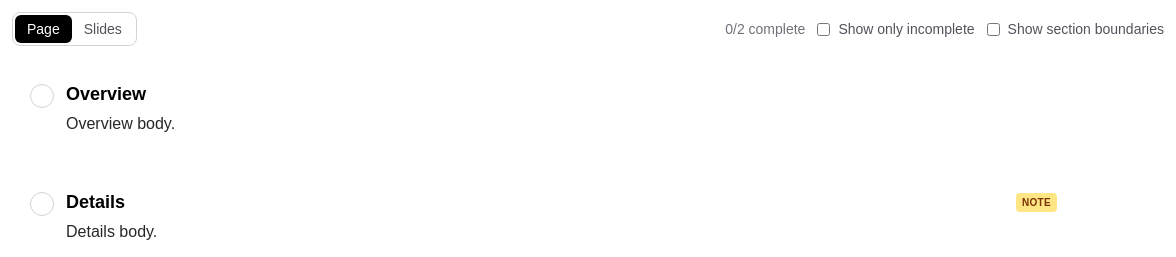
ContentBlocks › completion tracking › starts with nothing complete and updates the count on toggle
Expected: the text "0/2 complete" is shown, [725, 19, 805, 39]
Click the 1st button named "Mark as done".
click(42, 96)  # box [30, 84, 54, 108]
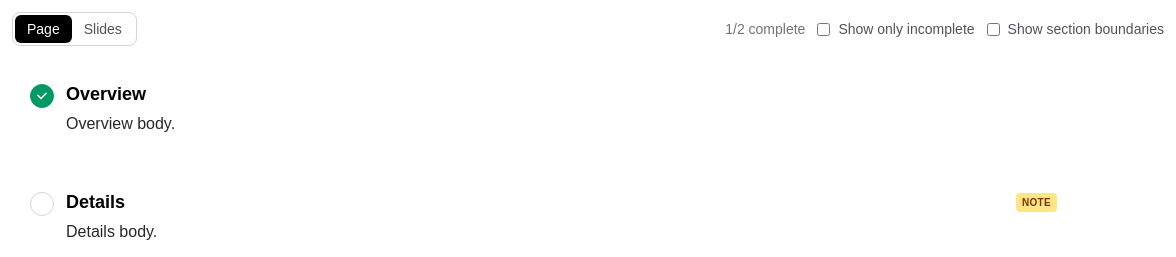
Now the text "1/2 complete" is shown, box [725, 19, 805, 39]
